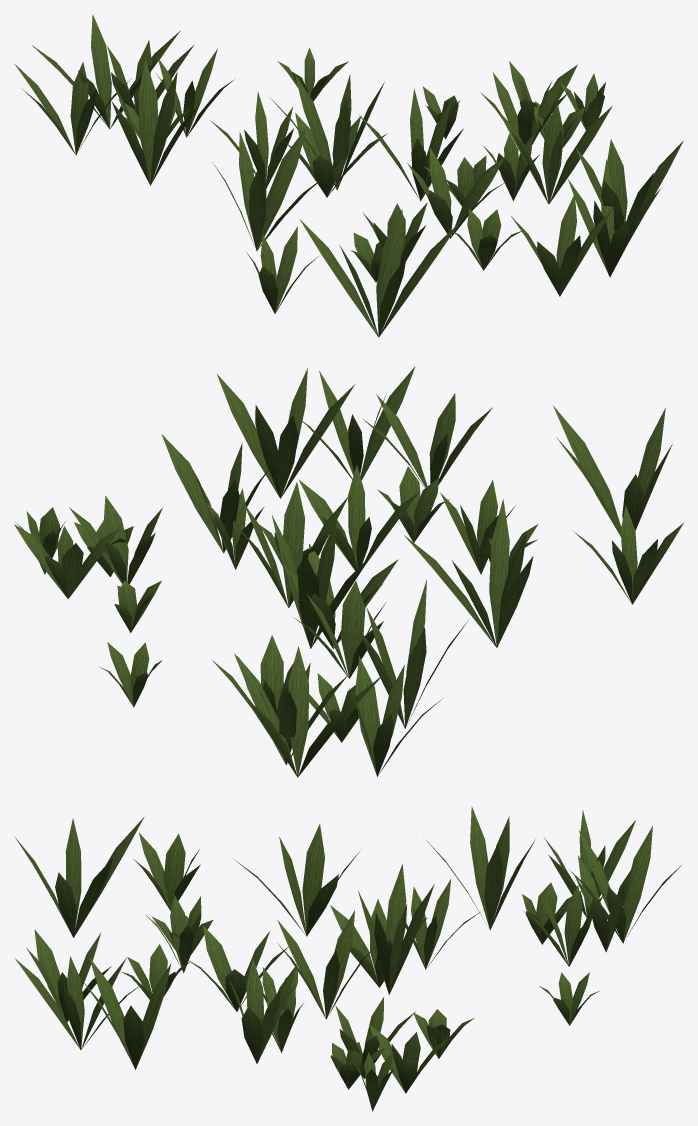
The model's file is WoodlandMoss_C.fbx.
3 views of the same model, one above another, from view 1: azimuth 30°, elevation 25°; view 2: azimuth 150°, elevation 25°; view 3: azimuth 270°, elevation 25° (orthographic). The views are drawn at different scales.
Parts seen in each view (by area): view 1: WoodlandMoss_C_LOD0; view 2: WoodlandMoss_C_LOD0; view 3: WoodlandMoss_C_LOD0.
Boxes of the visible parts, x1=… form: WoodlandMoss_C_LOD0: x1=14, y1=14, x2=683, y2=337; WoodlandMoss_C_LOD0: x1=14, y1=366, x2=683, y2=777; WoodlandMoss_C_LOD0: x1=14, y1=806, x2=681, y2=1111.
Size of what is drawn, in the model's own units: 19.37 by 4.04 by 24.03.
1 material, 1 textured.
